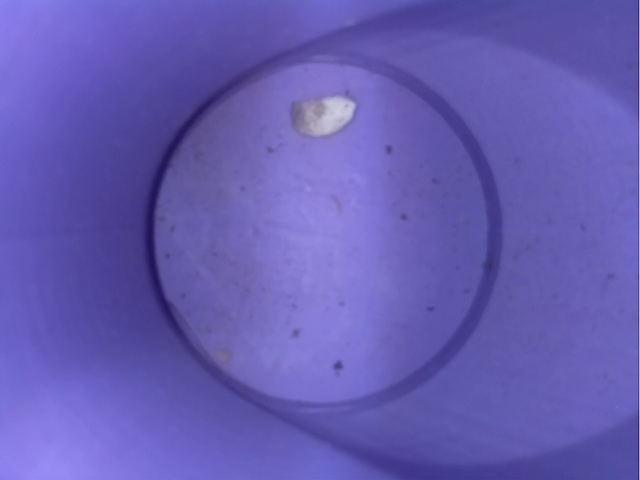caillou: (286, 75, 362, 144)
